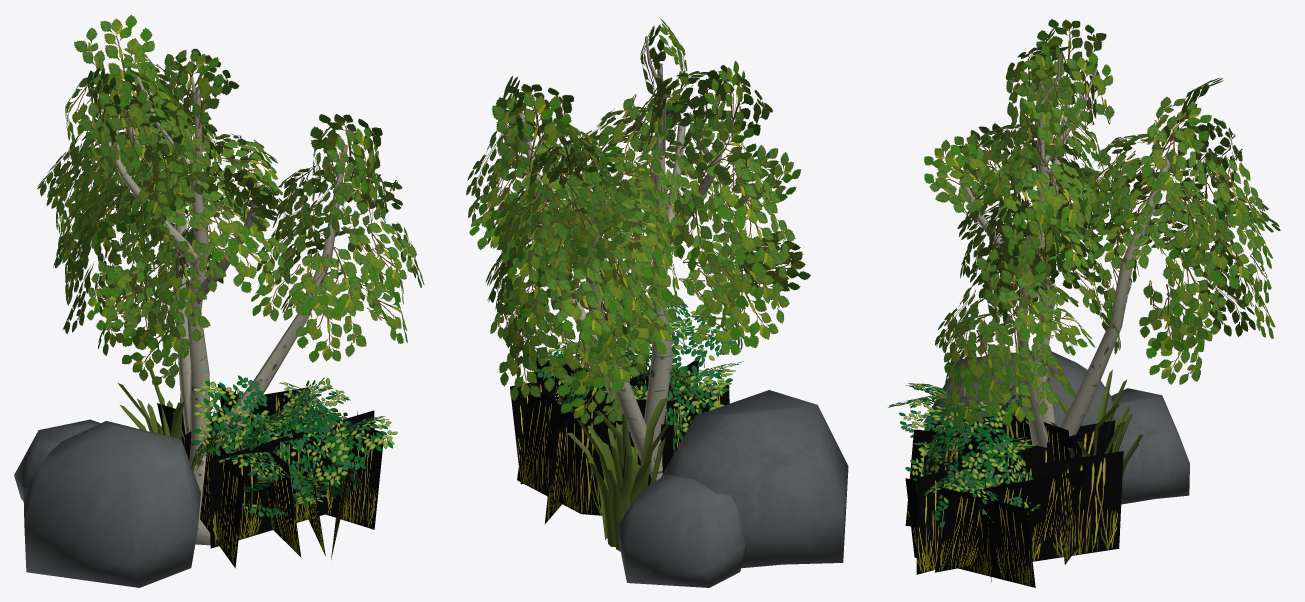
File: mod_icon.fbx
The picture shows the model from 3 angles, left to right: view 1: azimuth 30°, elevation 25°; view 2: azimuth 150°, elevation 25°; view 3: azimuth 270°, elevation 25°; orthographic projection. The views are drawn at different scales.
Parts seen in each view (by area): view 1: tree, bush, rock, rock.001, grass; view 2: tree, rock, bush, rock.001, grass; view 3: tree, bush, rock.001, rock, grass.
Part boxes in pixels (x1,y1,x2,y2): tree: (37, 15, 424, 545); bush: (157, 375, 397, 568); rock: (23, 421, 200, 587); rock.001: (14, 419, 100, 501); grass: (118, 369, 230, 439); tree: (466, 18, 810, 480); rock: (661, 390, 848, 568); bush: (510, 288, 743, 524); rock.001: (616, 474, 745, 587); grass: (567, 395, 669, 551); tree: (924, 19, 1280, 447); bush: (888, 381, 1123, 587); rock.001: (1111, 388, 1189, 504); rock: (923, 350, 1115, 428); grass: (1050, 369, 1143, 475).
Bounding box in the file's own units: 867 × 1129 × 907.
